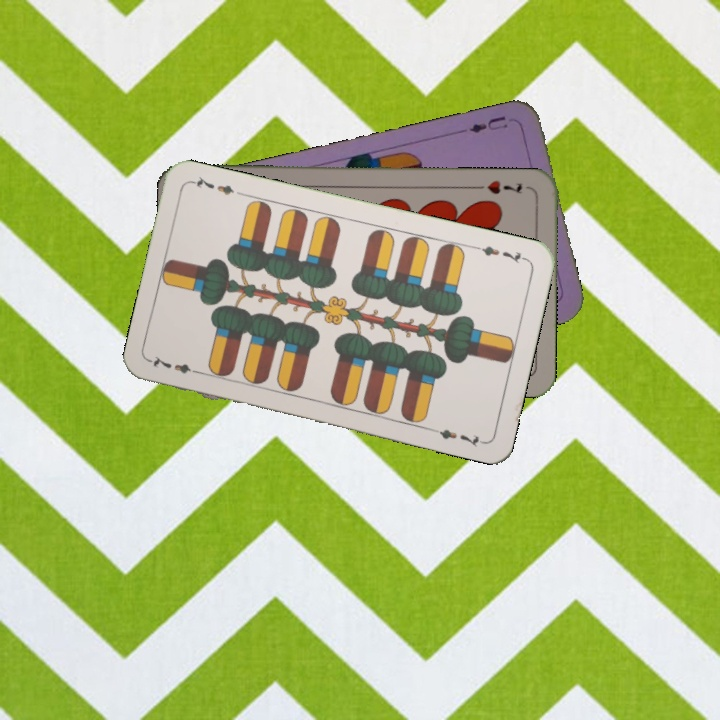E7: (147, 351, 205, 377), (471, 241, 529, 266)
EU: (465, 112, 511, 136)
H7: (484, 176, 525, 197)
